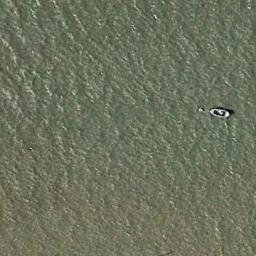boat: (207, 106, 230, 120)
